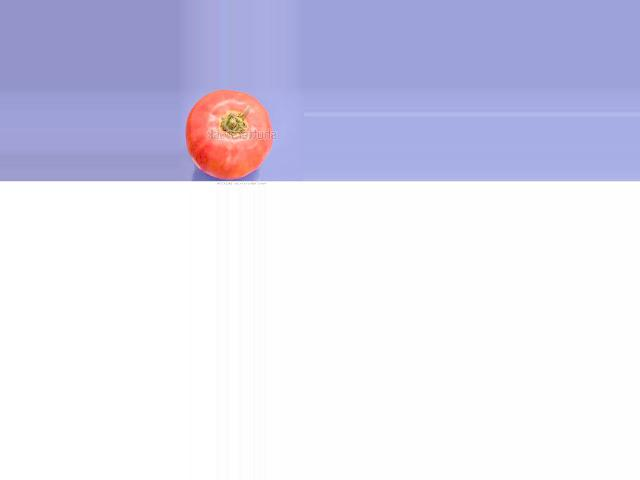tomato: (184, 90, 272, 178)
